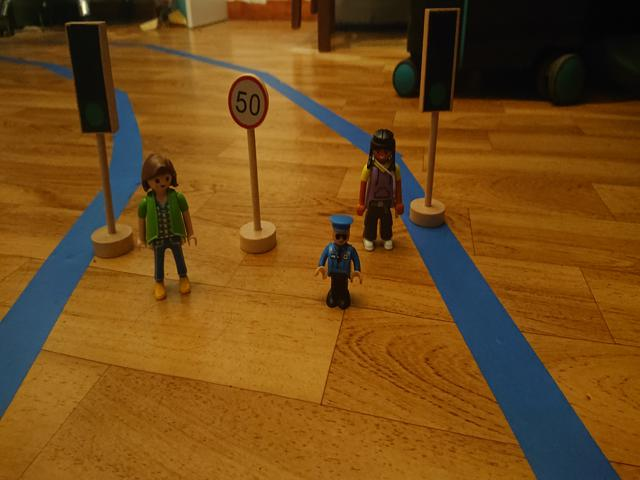50 speed sign: (224, 73, 271, 129)
green light: (69, 29, 111, 132), (427, 12, 452, 111)
person: (133, 155, 198, 300), (357, 129, 407, 253), (314, 213, 363, 313)
